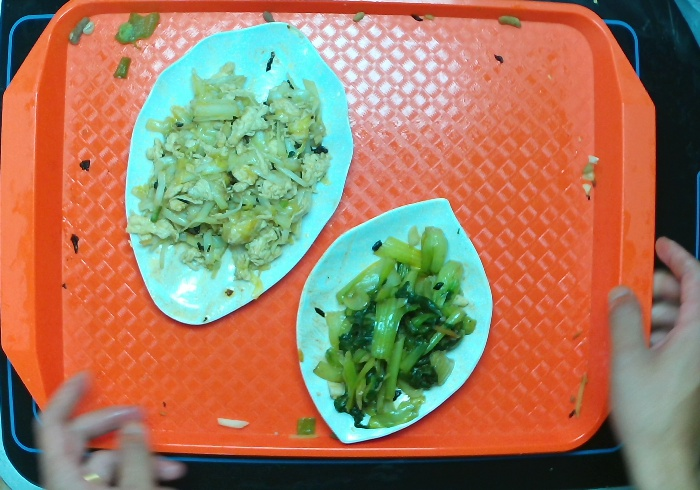RJxy-Bai_Ye_Pan: (117, 15, 359, 331)
RJxy-Da_Du_Pan: (287, 191, 498, 447)
